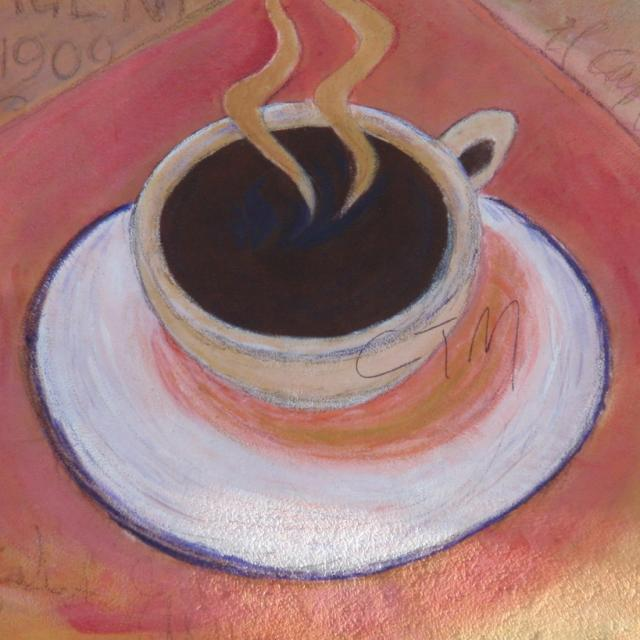Coffee: (152, 128, 444, 330)
